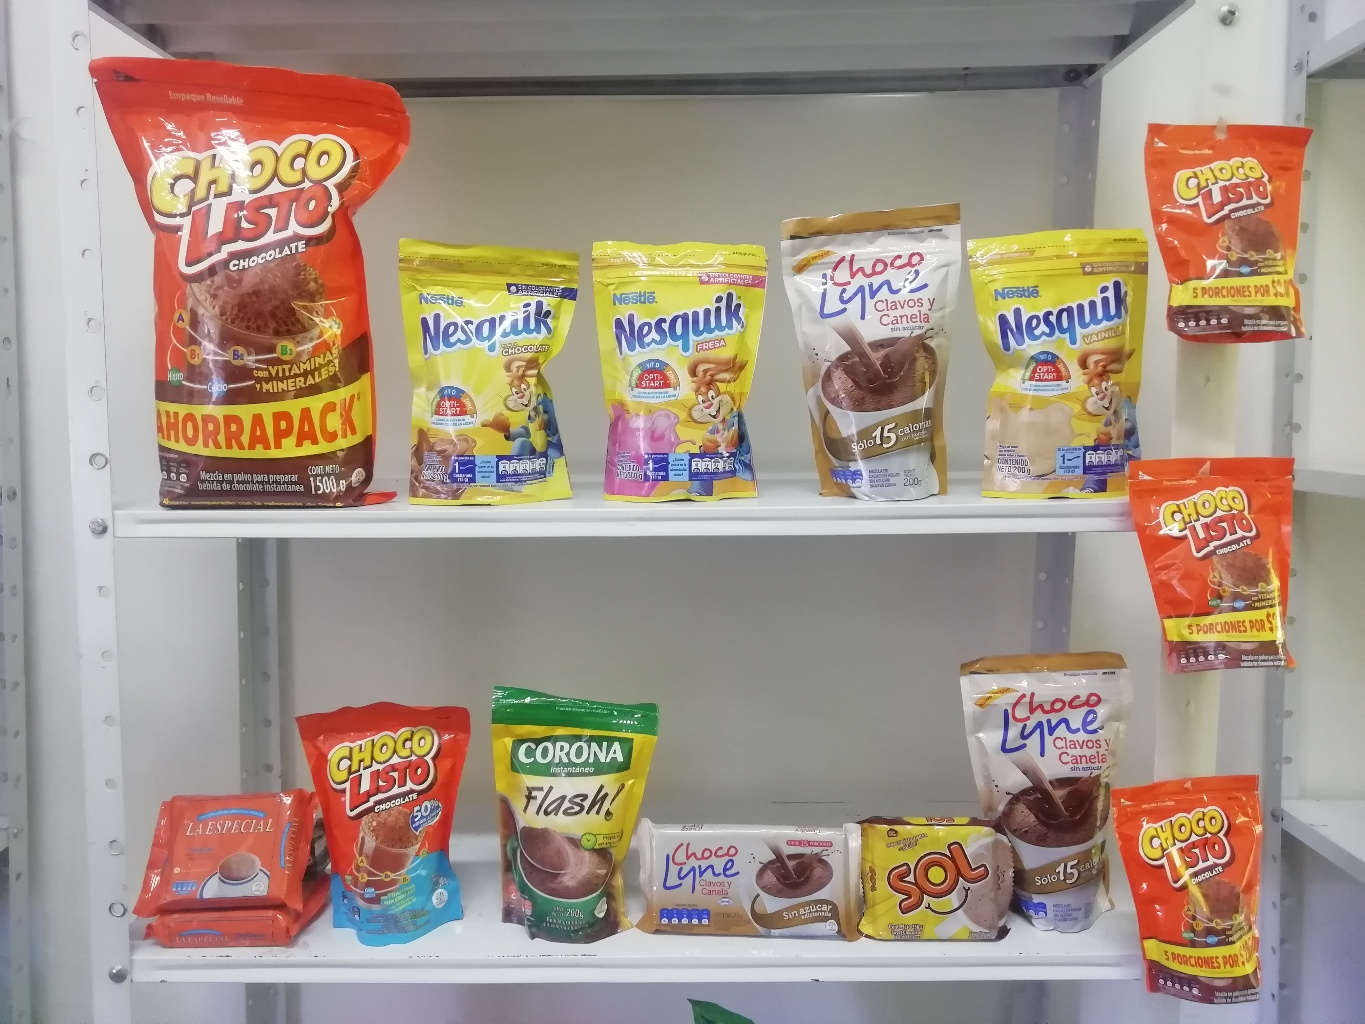COL0170103DYP1,500: (86, 52, 412, 511)
COL0170104DYP20000: (287, 696, 475, 945)
COL0170303DYP20000: (393, 234, 583, 507)
COL0170305DYP20000: (591, 236, 771, 504)
COL0170306DYP20000: (964, 234, 1161, 498)
